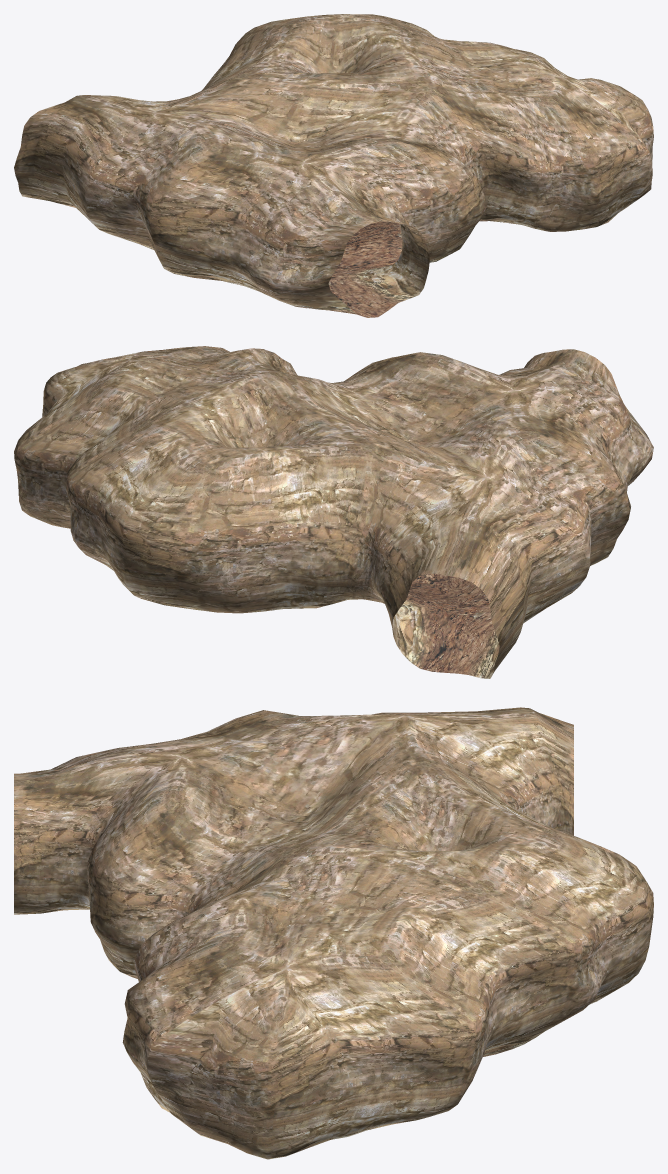
File: thm_tato_cave_s02_r11_roomaa_mesh_r11.fbx
3 views of the same model, one above another, from view 1: azimuth 30°, elevation 25°; view 2: azimuth 150°, elevation 25°; view 3: azimuth 270°, elevation 25° (orthographic). The views are drawn at different scales.
Visible parts, largest first — view 1: mesh_node; view 2: mesh_node; view 3: mesh_node.
Boxes of the visible parts, x1,y1,x2,y2 form: mesh_node: (14, 14, 653, 317); mesh_node: (14, 346, 653, 678); mesh_node: (14, 707, 653, 1159).
Size of the model in its own units: 56.53 by 17.06 by 46.38.
